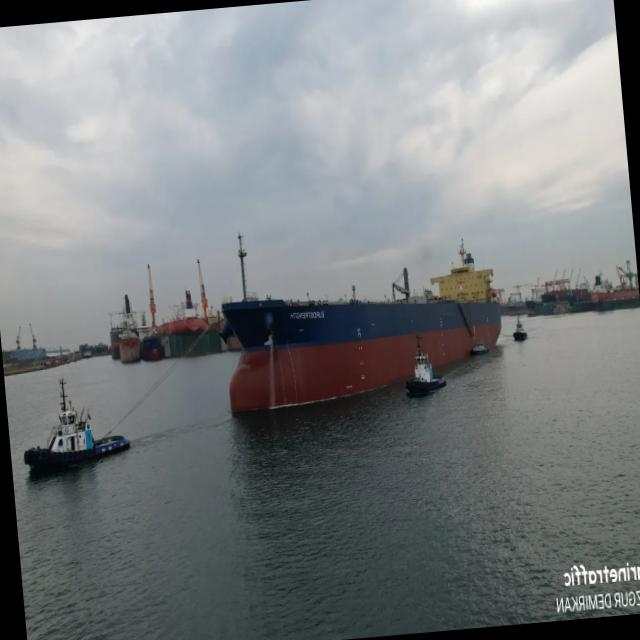Tanker: (222, 244, 501, 409), (238, 235, 247, 297)
Tug: (24, 379, 129, 474), (405, 341, 446, 395), (513, 316, 527, 340), (471, 339, 487, 353)
